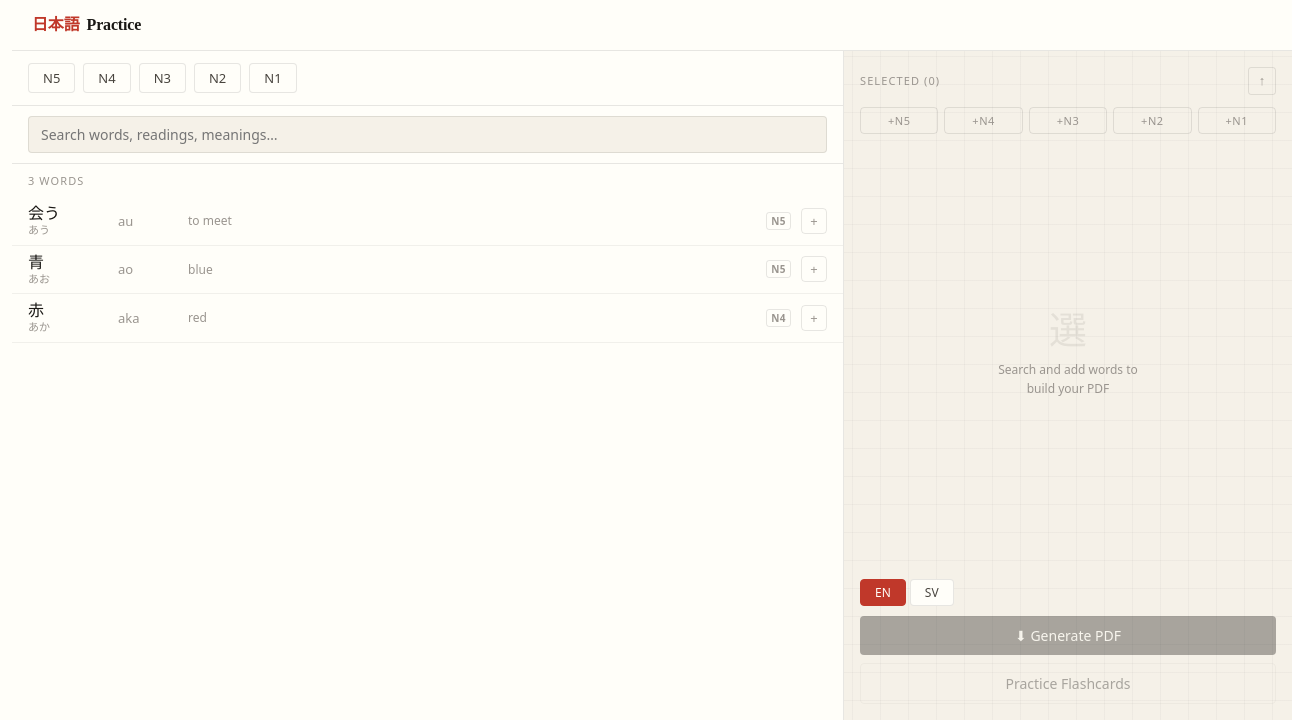
Test: VocabularyBuilder › JLPT filter hides non-matching words
expect the text "会う" is shown: met, box [28, 205, 60, 222]
What coordinates should you click on to do the following:
click the button "N5"
I would click on:
 (52, 78)
Its box is [28, 63, 75, 93].
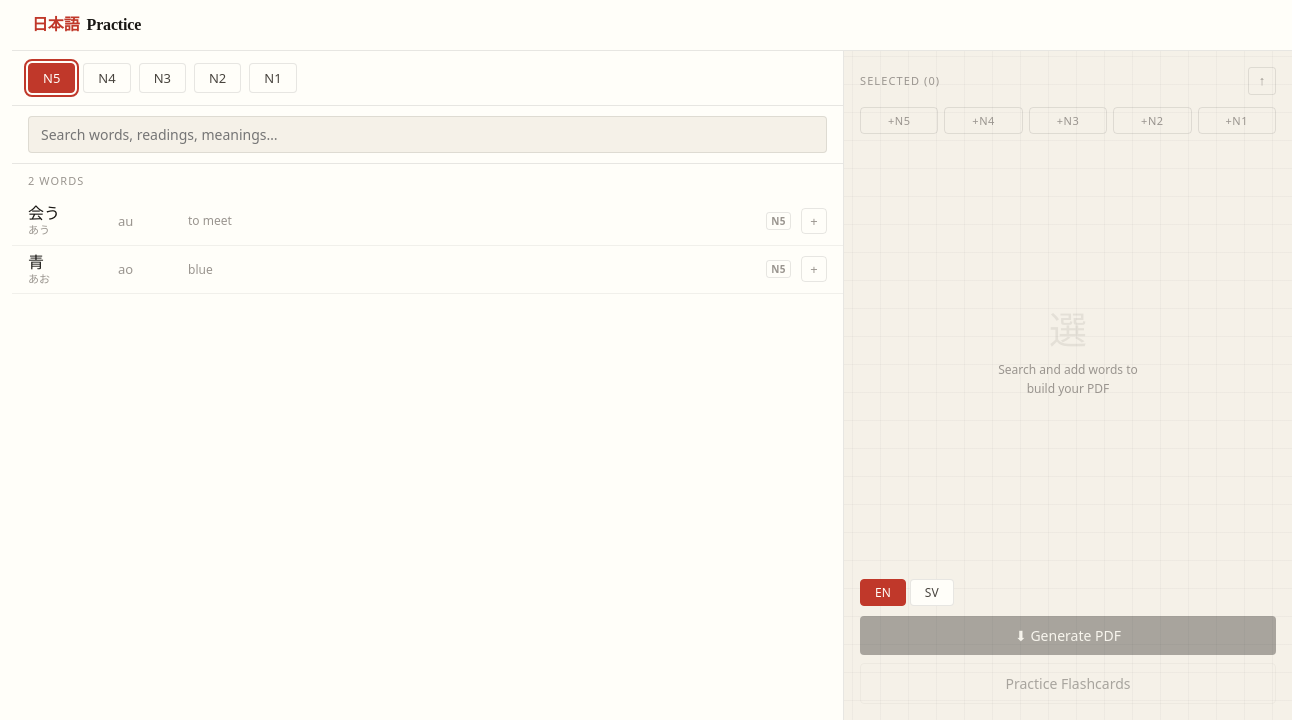
expect the text "会う" is shown: met, box [28, 205, 60, 222]
expect the button "赤" is gone: met
